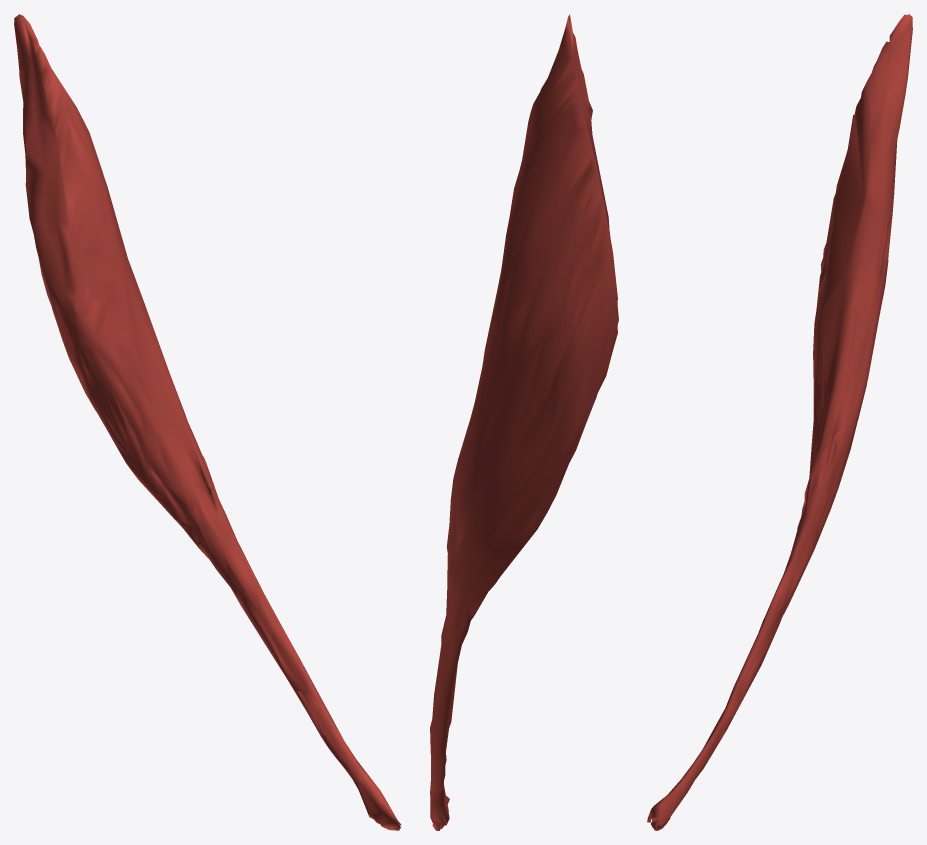
Rendered from musculos-abductor-pollicis-longus-l.glb.
3 views of the same model, side by side, from view 1: azimuth 30°, elevation 25°; view 2: azimuth 150°, elevation 25°; view 3: azimuth 270°, elevation 25° (orthographic). The views are drawn at different scales.
Visible parts, largest first — view 1: Abductor pollicis longus.l; view 2: Abductor pollicis longus.l; view 3: Abductor pollicis longus.l.
Part boxes in pixels (x1,y1,x2,y2): Abductor pollicis longus.l: [14, 14, 401, 830]; Abductor pollicis longus.l: [430, 14, 618, 830]; Abductor pollicis longus.l: [647, 14, 912, 830].
Size of the model in its own units: 0.064 by 0.1878 by 0.0637.
